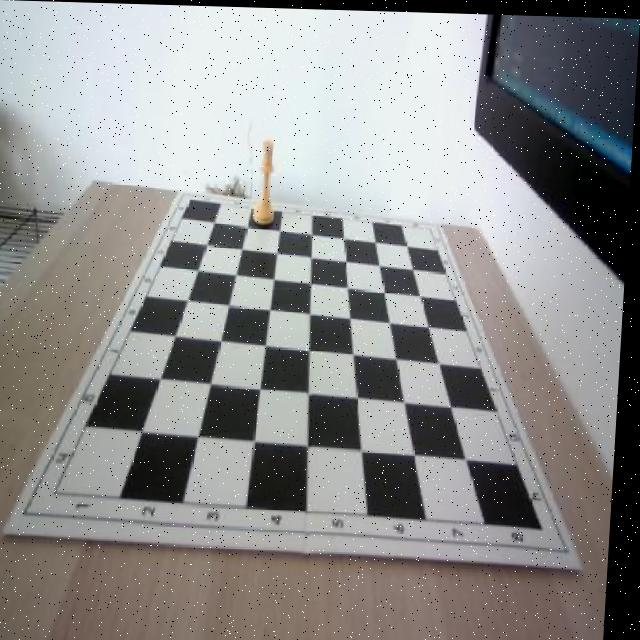white-pawn: (254, 135, 281, 221)
